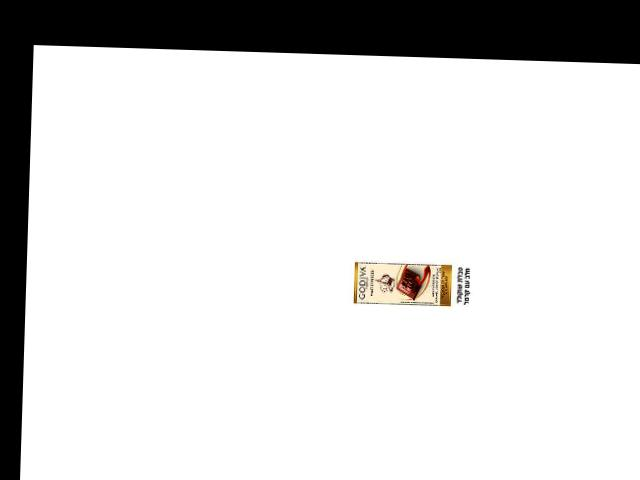chocolate: (351, 258, 455, 305)
